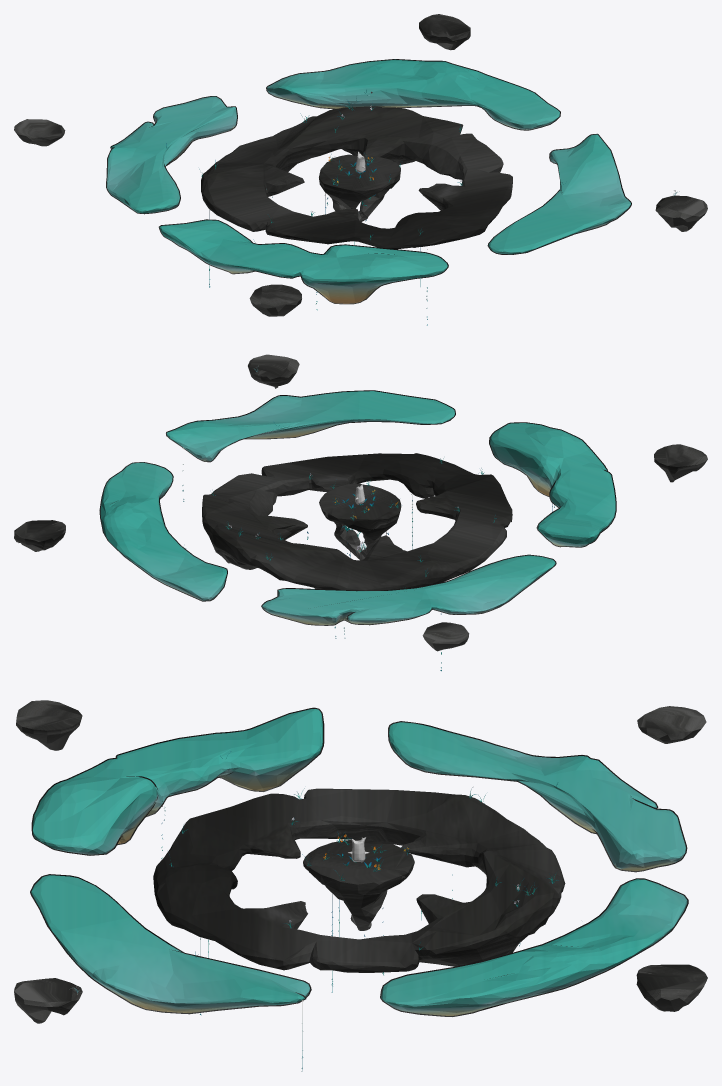
The model's file is map.obj.
The picture shows the model from 3 angles, top to bottom: view 1: azimuth 30°, elevation 25°; view 2: azimuth 150°, elevation 25°; view 3: azimuth 270°, elevation 25°; orthographic projection. The views are drawn at different scales.
Visible parts, largest first — view 1: ring.002, ring.001, main island, subisland.001, subisland.004, subisland.003, subisland.002; view 2: ring.002, ring.001, main island, subisland.003, subisland.004, subisland.001, subisland.002; view 3: ring.002, ring.001, main island, subisland.001, subisland.003, subisland.004, subisland.002.
Boxes of the visible parts, box(x1,y1,x2,y2) form: ring.002: box(106, 59, 631, 304); ring.001: box(201, 106, 512, 249); main island: box(319, 154, 400, 222); subisland.001: box(419, 14, 470, 50); subisland.004: box(655, 195, 707, 231); subisland.003: box(249, 284, 301, 316); subisland.002: box(14, 119, 65, 146); ring.002: box(99, 390, 616, 625); ring.001: box(202, 453, 512, 590); main island: box(319, 483, 401, 560); subisland.003: box(654, 444, 707, 482); subisland.004: box(248, 354, 299, 388); subisland.001: box(14, 520, 65, 551); subisland.002: box(422, 622, 469, 651); ring.002: box(30, 707, 688, 1016); ring.001: box(153, 788, 565, 972); main island: box(303, 839, 414, 930); subisland.001: box(636, 964, 707, 1011); subisland.003: box(16, 700, 82, 750); subisland.004: box(14, 978, 82, 1023); subisland.002: box(637, 706, 706, 743).
Size of the model in its own units: 53.6 by 14.86 by 53.46.
